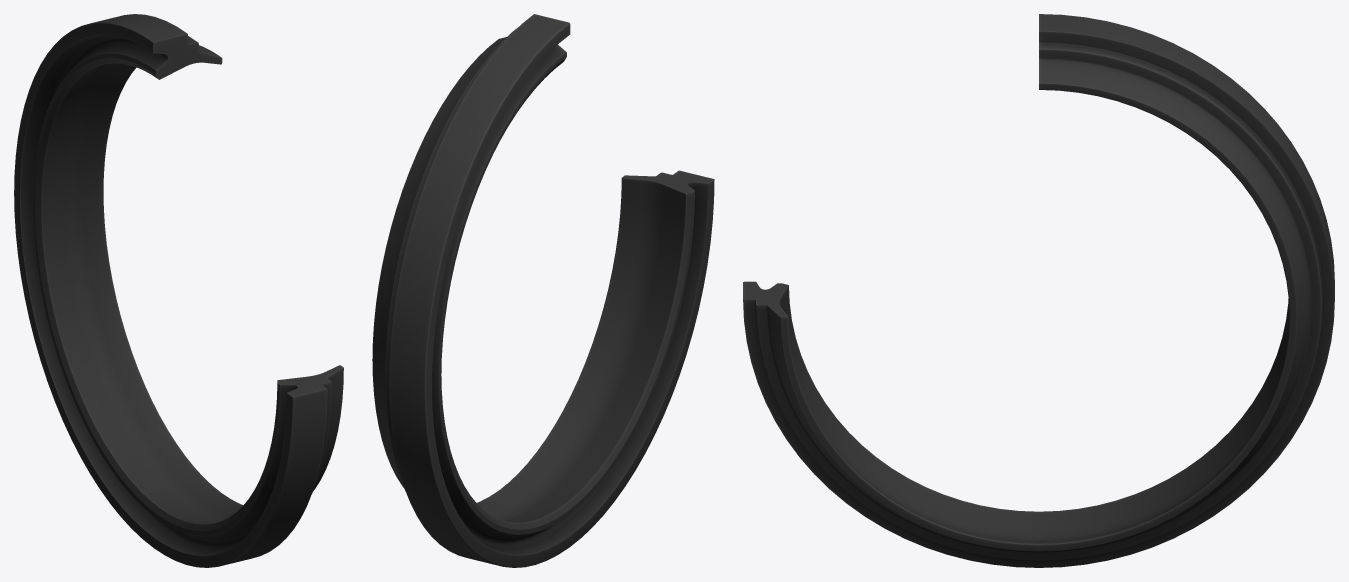
3 renders of one model, left to right at view 1: azimuth 30°, elevation 25°; view 2: azimuth 150°, elevation 25°; view 3: azimuth 270°, elevation 25°, orthographic. The views are drawn at different scales.
Visible parts, largest first — view 1: PR00077_zurcon_scraper_da17; view 2: PR00077_zurcon_scraper_da17; view 3: PR00077_zurcon_scraper_da17.
Boxes of the visible parts, x1,y1,x2,y2 form: PR00077_zurcon_scraper_da17: (14,14,343,567); PR00077_zurcon_scraper_da17: (372,14,714,567); PR00077_zurcon_scraper_da17: (743,14,1334,567).
Size of the model in its own units: 0.0283 by 0.199 by 0.199.
Materials: 1 (1 with a texture image).
